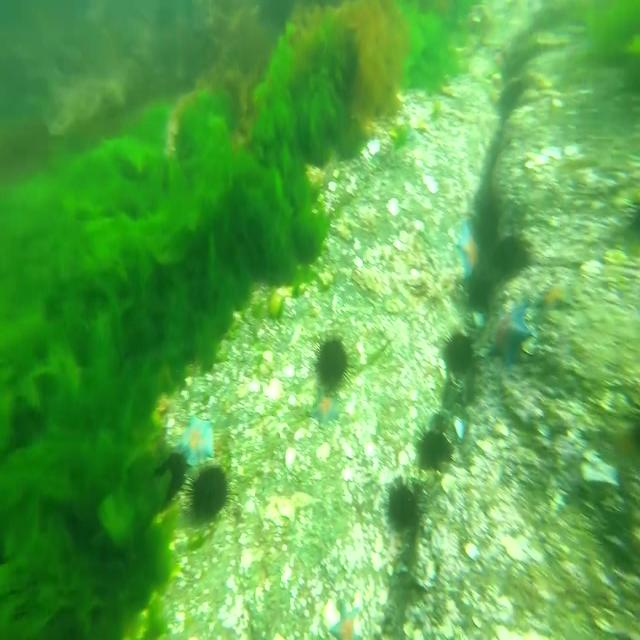echinus: (185, 454, 234, 527), (310, 325, 352, 400), (381, 472, 419, 529), (493, 230, 533, 283), (441, 324, 478, 381), (413, 417, 452, 468), (156, 448, 191, 501), (625, 190, 640, 246)
starfish: (488, 302, 532, 366), (170, 408, 216, 465), (325, 592, 362, 640), (306, 383, 342, 430), (454, 220, 480, 280), (543, 275, 570, 313)
